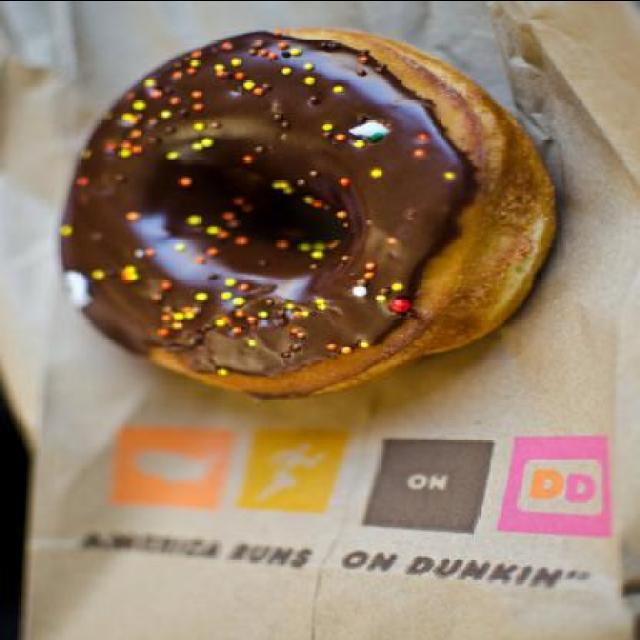Donuts: (34, 18, 603, 414)
